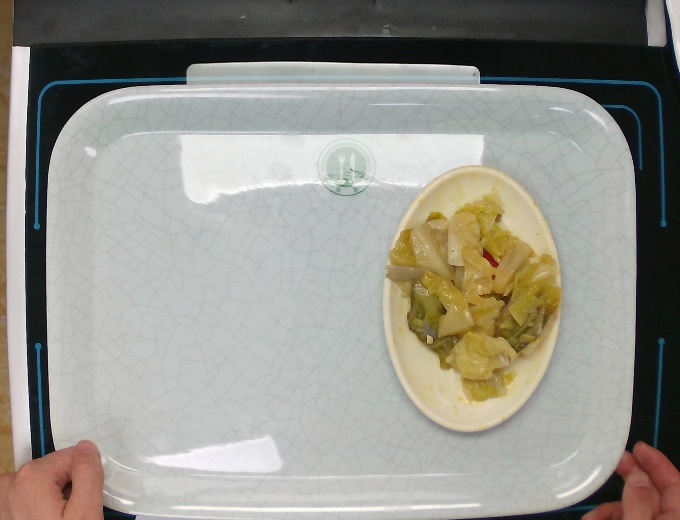JYsf-Tuo_Yuan_Wan: (380, 155, 567, 435)
